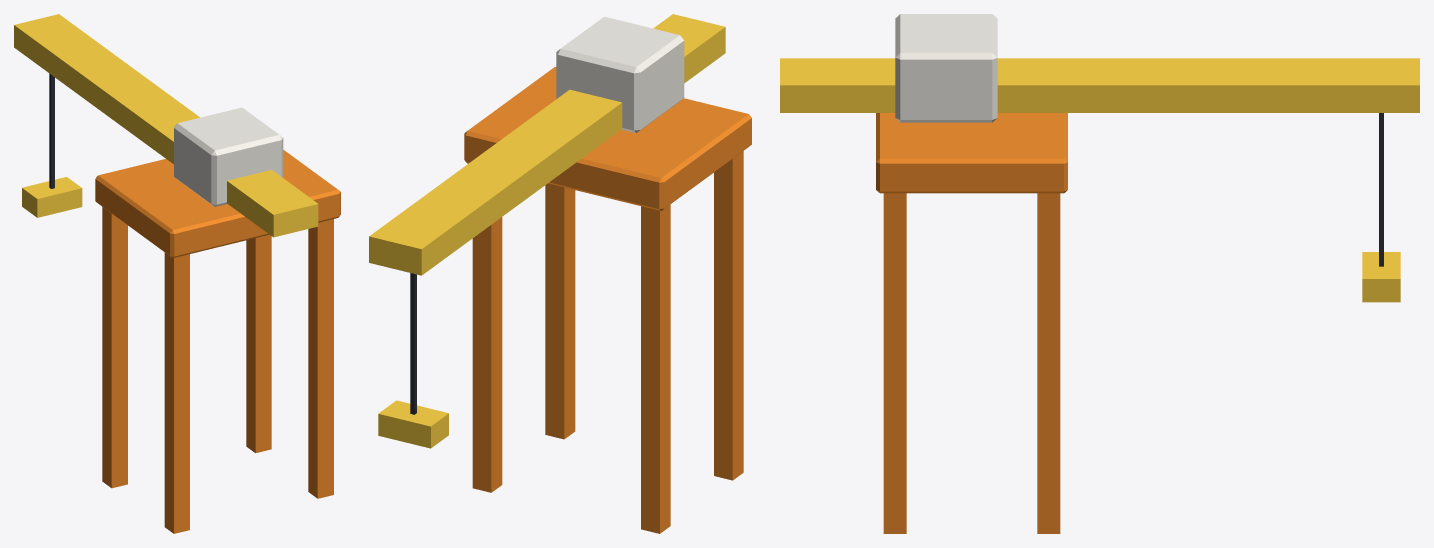
File: crane.glb
3 renders of one model, left to right at view 1: azimuth 30°, elevation 25°; view 2: azimuth 150°, elevation 25°; view 3: azimuth 270°, elevation 25°, orthographic. The views are drawn at different scales.
Parts seen in each view (by area): view 1: crane; view 2: crane; view 3: crane.
Boxes of the visible parts, left/top/right/bottom form: crane: left=14, top=14, right=340, bottom=533; crane: left=369, top=14, right=751, bottom=533; crane: left=780, top=14, right=1419, bottom=533.
Bounding box in the file's own units: 1.9 × 3.9 × 5.
1 material, 1 textured.
